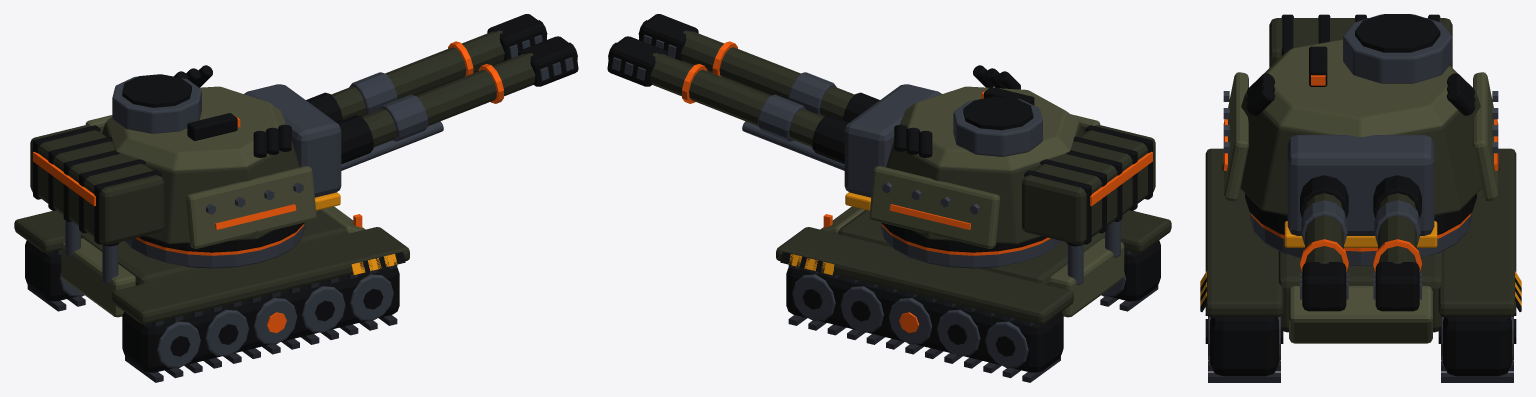
The model's file is torreta_canon.obj.
3 views of the same model, side by side, from view 1: azimuth 30°, elevation 25°; view 2: azimuth 150°, elevation 25°; view 3: azimuth 270°, elevation 25° (orthographic). The views are drawn at different scales.
Parts seen in each view (by area): view 1: Base_Blindaje, Pivot_Blindaje_Claro, Pivot_Blindaje, Base_Metal_Gris, Base_Metal_Oscuro, Pivot_Metal_Oscuro, Barrel_Blindaje, Pivot_Metal_Gris, Barrel_Metal_Oscuro, Barrel_Metal_Gris, Base_Blindaje_Claro, Base_Estructura (+3 smaller); view 2: Base_Blindaje, Pivot_Blindaje_Claro, Pivot_Blindaje, Base_Metal_Gris, Base_Metal_Oscuro, Barrel_Blindaje, Pivot_Metal_Oscuro, Pivot_Metal_Gris, Barrel_Metal_Oscuro, Barrel_Metal_Gris, Base_Blindaje_Claro, Base_Estructura (+3 smaller); view 3: Base_Blindaje, Pivot_Blindaje_Claro, Pivot_Metal_Gris, Pivot_Blindaje, Base_Metal_Oscuro, Pivot_Metal_Oscuro, Barrel_Metal_Oscuro, Base_Blindaje_Claro, Barrel_Blindaje, Base_Metal_Gris, Barrel_Metal_Gris, Base_Estructura (+4 smaller).
Boxes of the visible parts, x1,y1,x2,y2 form: Base_Blindaje: (14, 210, 409, 324); Pivot_Blindaje_Claro: (85, 86, 316, 248); Pivot_Blindaje: (30, 122, 299, 244); Base_Metal_Gris: (59, 220, 393, 367); Base_Metal_Oscuro: (25, 240, 405, 372); Pivot_Metal_Oscuro: (33, 65, 304, 252); Barrel_Blindaje: (331, 30, 535, 146); Pivot_Metal_Gris: (112, 76, 341, 214); Barrel_Metal_Oscuro: (306, 14, 578, 164); Barrel_Metal_Gris: (341, 35, 573, 170); Base_Blindaje_Claro: (61, 206, 365, 317); Base_Estructura: (27, 250, 397, 382); Base_Blindaje: (776, 210, 1171, 324); Pivot_Blindaje_Claro: (869, 86, 1100, 248); Pivot_Blindaje: (886, 122, 1155, 244); Base_Metal_Gris: (792, 220, 1126, 367); Base_Metal_Oscuro: (780, 240, 1160, 372); Barrel_Blindaje: (650, 30, 854, 146); Pivot_Metal_Oscuro: (881, 65, 1152, 252); Pivot_Metal_Gris: (844, 84, 1042, 214); Barrel_Metal_Oscuro: (607, 14, 879, 164); Barrel_Metal_Gris: (612, 35, 844, 170); Base_Blindaje_Claro: (820, 206, 1124, 317); Base_Estructura: (788, 250, 1158, 382); Base_Blindaje: (1205, 148, 1516, 332); Pivot_Blindaje_Claro: (1224, 39, 1497, 201); Pivot_Metal_Gris: (1223, 14, 1498, 235); Pivot_Blindaje: (1222, 18, 1499, 215); Base_Metal_Oscuro: (1200, 277, 1521, 376); Pivot_Metal_Oscuro: (1245, 14, 1476, 234); Barrel_Metal_Oscuro: (1300, 175, 1421, 311); Base_Blindaje_Claro: (1289, 286, 1432, 343); Barrel_Blindaje: (1305, 193, 1416, 263); Base_Metal_Gris: (1208, 212, 1513, 360); Barrel_Metal_Gris: (1300, 200, 1421, 299); Base_Estructura: (1208, 361, 1513, 382).
Size of the model in its own units: 6.16 by 2.57 by 2.9.
